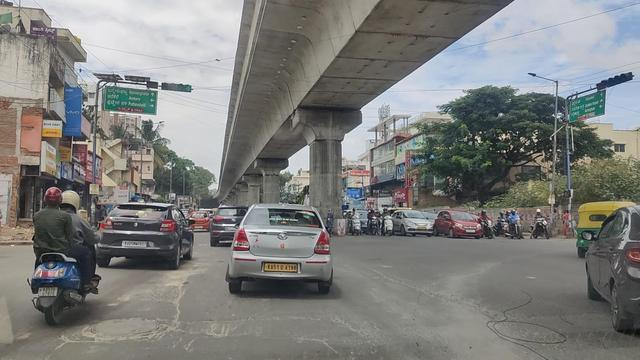LMV: (228, 200, 335, 303), (30, 186, 96, 318), (99, 200, 194, 272)
RoadDamages: (71, 315, 171, 349), (193, 309, 240, 341), (295, 334, 337, 356), (167, 296, 182, 326)
